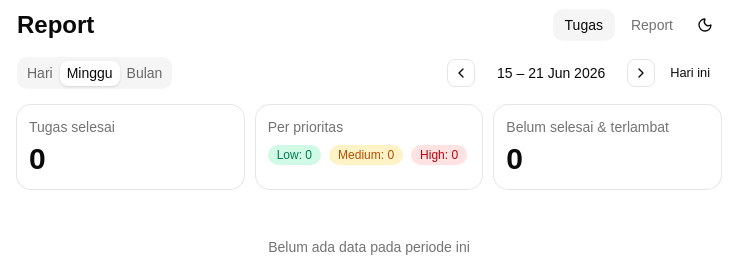
ReportPage › switches the period tab and updates the label
Check: the text "15 – 21 Jun 2026" is shown, box [497,65,605,81]
Click the tab "Bulan".
click(144, 73)  # box [120,60,169,86]
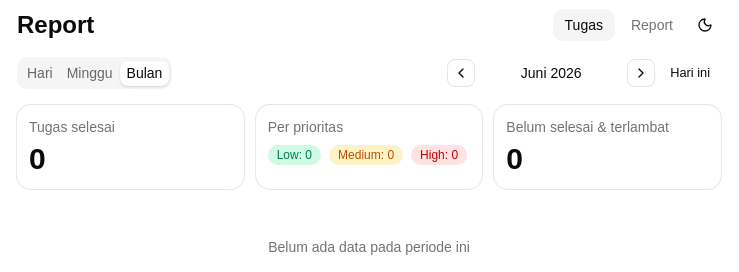
Check: the text "Juni 2026" is shown, box [521,65,582,81]
